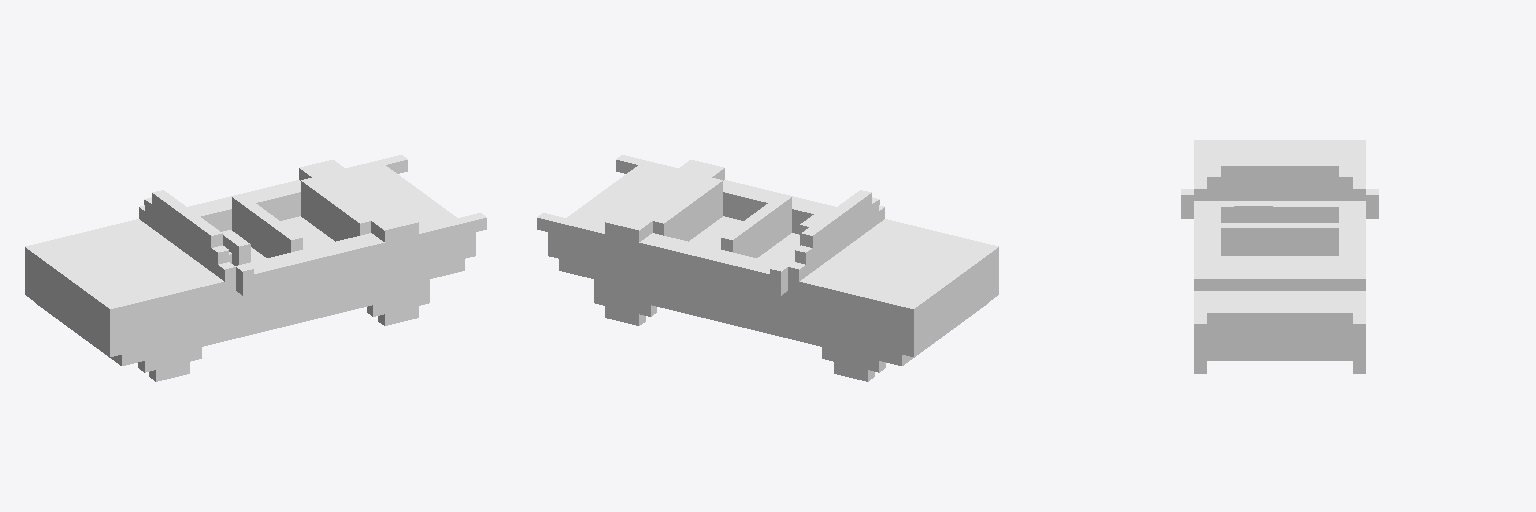
File: carrorosa-3.obj
3 renders of one model, left to right at view 1: azimuth 30°, elevation 25°; view 2: azimuth 150°, elevation 25°; view 3: azimuth 270°, elevation 25°, orthographic.
Parts seen in each view (by area): view 1: object 1; view 2: object 1; view 3: object 1.
Part boxes in pixels (x1,y1,x2,y2): object 1: (25, 155, 486, 381); object 1: (537, 155, 998, 381); object 1: (1181, 140, 1378, 373).
Size of the model in its own units: 3.3 by 1 by 1.5.